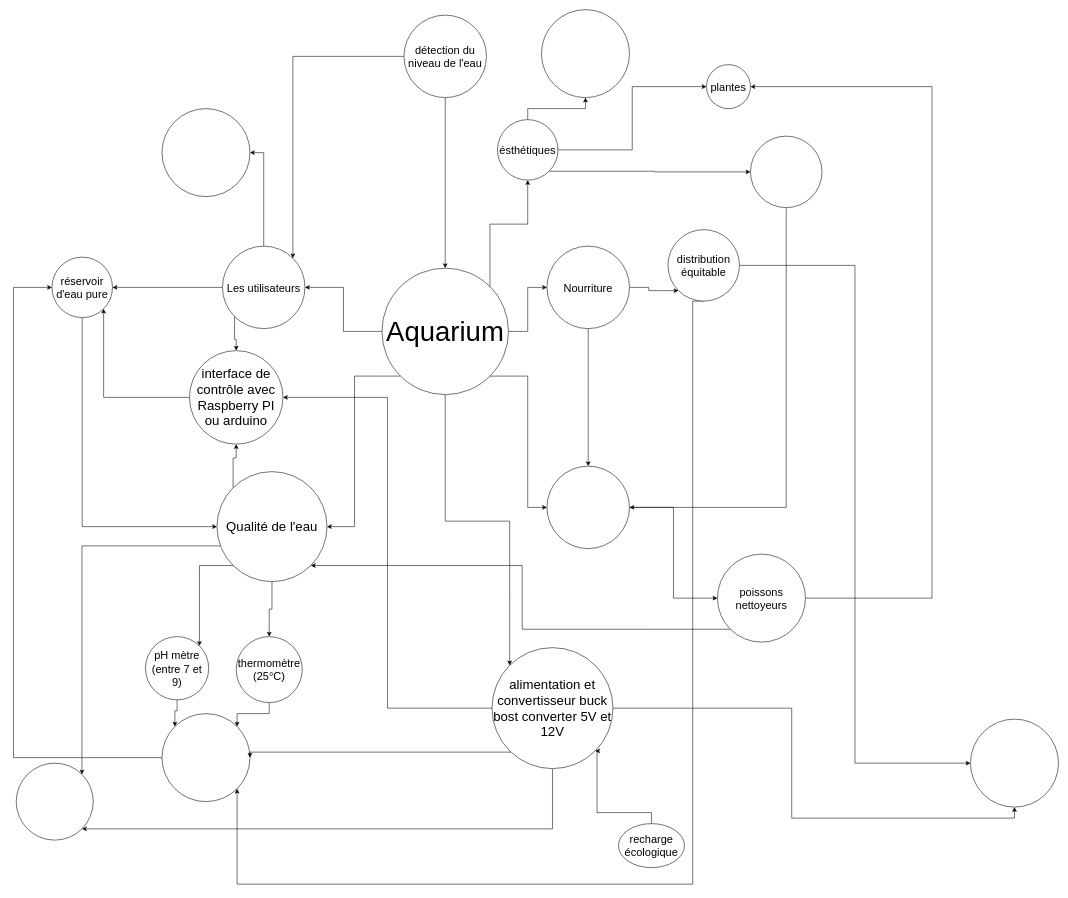
Image size: 1068x898. Some labels were removed from this diagram. The shapes that lost their labels are listed below. From the top down, each one's box as (x1, y1, x2, y2) in pixels, then its label:
(541, 9, 629, 98): cailloux, pierres
(161, 108, 250, 197): Maintenance pour des réparation en cas de problème
(750, 136, 822, 208): décorations, bulles
(546, 466, 629, 549): les poissons
(161, 713, 250, 802): système régulant / de contrôle
(970, 719, 1058, 807): distribution motorisé d'une dose de 300g environ
(16, 763, 93, 840): Syphon * éléctrovanne + bac en commun
